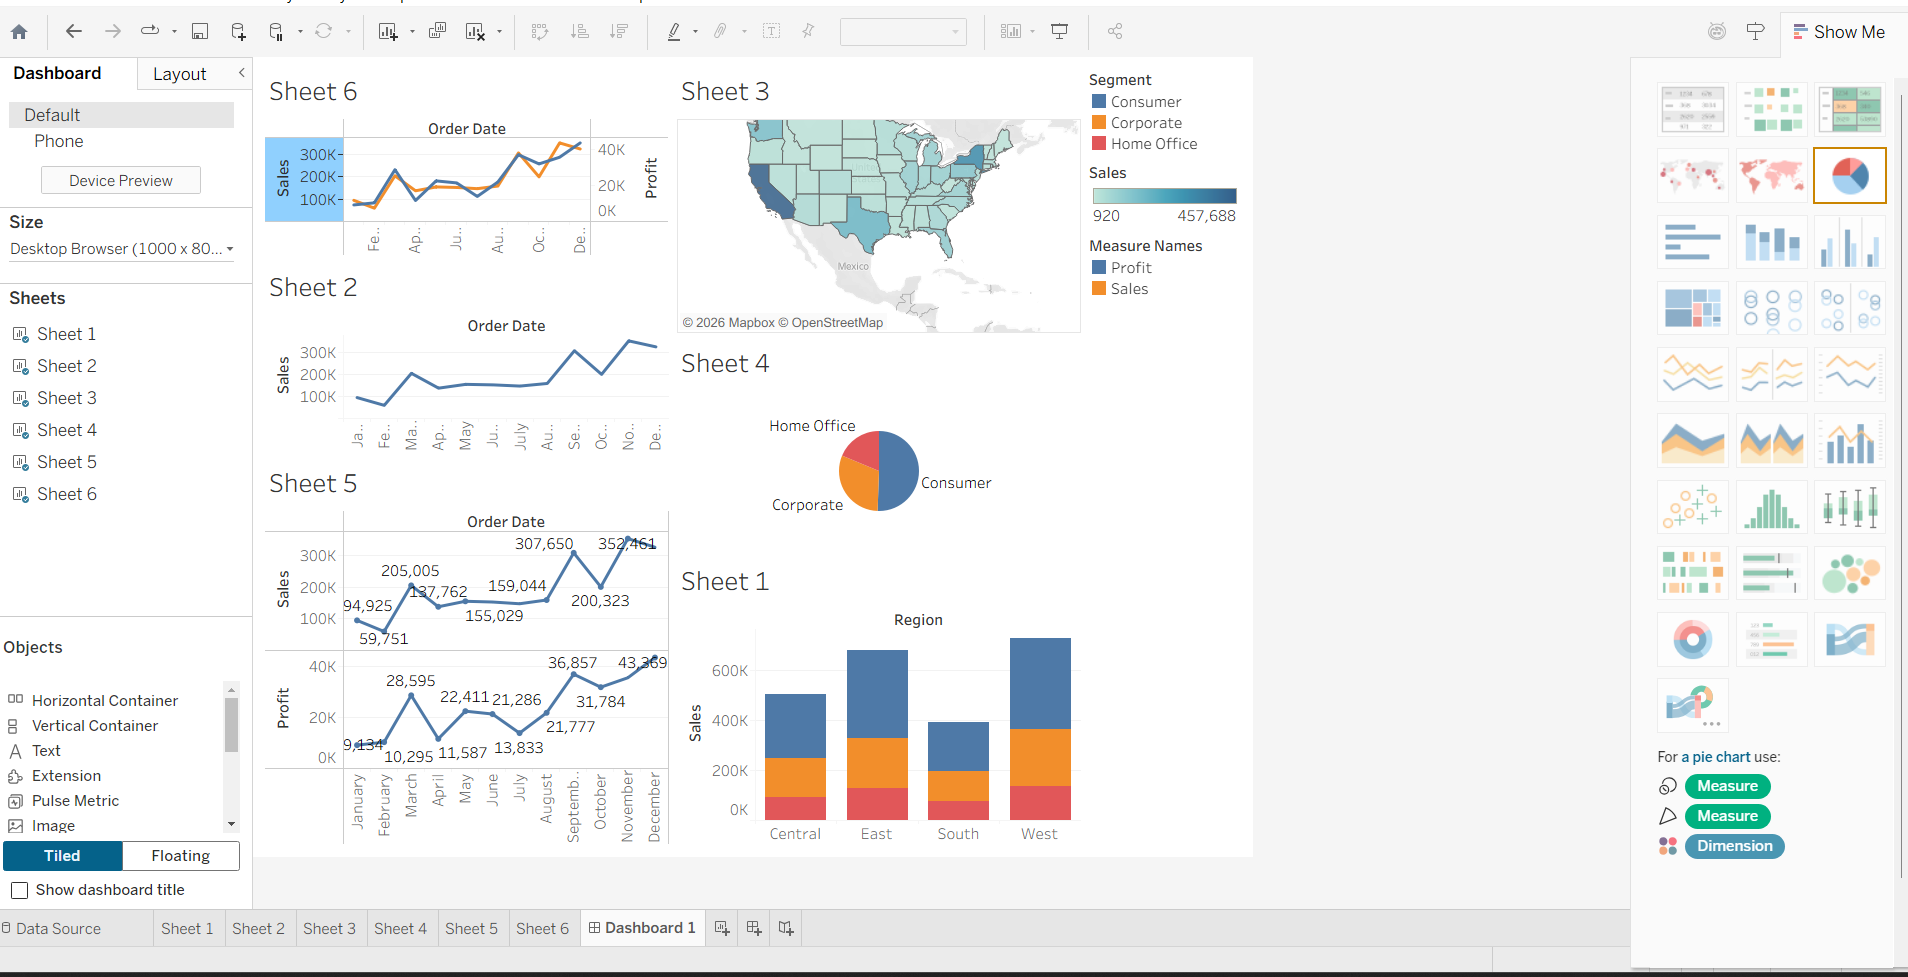

The page's visual inventory and layout, read from the dashboard file:
{"tool":"tableau","page":{"name":"Dashboard 1","canvas":[1000,800],"ordinal":0},"visuals":[{"type":"worksheet","title":"Sheet 6","mark":"Automatic","rows":["Sales","Profit"],"cols":["Order Date"],"box":[8,8,412,196]},{"type":"worksheet","title":"Sheet 3","mark":"Multipolygon","box":[420,8,412,272]},{"type":"legend","title":"Sheet 1","param":"[federated.0mngb8x0oucq8p1f918kl0ayfch0].[none:Segment:nk]","box":[832,8,160,93]},{"type":"legend","title":"Sheet 3","param":"[federated.0mngb8x0oucq8p1f918kl0ayfch0].[sum:Sales:qk]","box":[832,101,160,73]},{"type":"legend","title":"Sheet 6","param":"[federated.0mngb8x0oucq8p1f918kl0ayfch0].[:Measure Names]","box":[832,174,160,72]},{"type":"worksheet","title":"Sheet 2","mark":"Automatic","rows":["Sales"],"cols":["Order Date"],"box":[8,204,412,196]},{"type":"worksheet","title":"Sheet 4","mark":"Pie","box":[420,280,412,218]},{"type":"worksheet","title":"Sheet 5","mark":"Automatic","rows":["Sales","Profit"],"cols":["Order Date"],"box":[8,400,412,392]},{"type":"worksheet","title":"Sheet 1","mark":"Automatic","rows":["Sales"],"cols":["Region"],"box":[420,498,412,294]}]}

Visuals, with their boxes on the page's 1000x800 design canvas (x1, y1, x2, y2). These are canvas units, not pixel positions in the 1908x977 screenshot, which may show the page scaled, cropped or inside an application window:
"Sheet 6" worksheet: 8,8,420,204
"Sheet 3" worksheet (Multipolygon marks): 420,8,832,280
"Sheet 1" legend: 832,8,992,101
"Sheet 3" legend: 832,101,992,174
"Sheet 6" legend: 832,174,992,246
"Sheet 2" worksheet: 8,204,420,400
"Sheet 4" worksheet (Pie marks): 420,280,832,498
"Sheet 5" worksheet: 8,400,420,792
"Sheet 1" worksheet: 420,498,832,792
